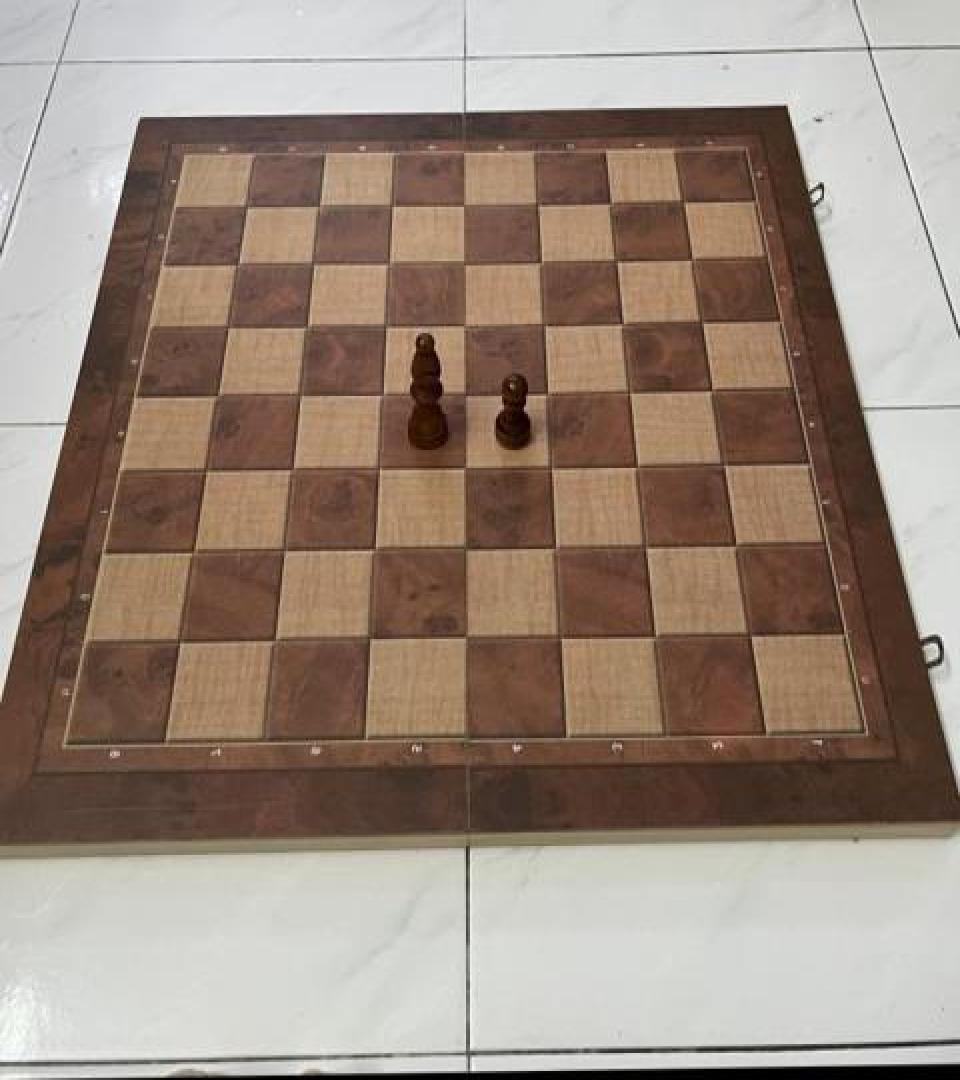xcorner: (591, 182, 625, 221), (528, 371, 562, 410), (611, 371, 645, 410), (226, 187, 260, 225), (299, 186, 333, 224), (371, 184, 405, 222), (444, 184, 478, 222), (518, 184, 552, 222), (665, 181, 699, 219), (217, 246, 251, 284), (293, 244, 327, 282), (369, 243, 403, 281), (445, 242, 479, 280), (521, 241, 555, 279), (597, 240, 631, 278), (674, 238, 708, 276), (208, 307, 242, 345), (287, 306, 321, 344), (366, 305, 400, 343), (445, 305, 479, 343), (524, 304, 558, 342), (604, 303, 638, 341), (684, 302, 718, 340), (198, 376, 232, 414), (280, 375, 314, 413), (363, 374, 397, 412), (445, 372, 479, 410), (694, 370, 728, 408), (187, 450, 221, 488), (273, 449, 307, 487), (359, 448, 393, 486), (445, 447, 479, 485), (532, 447, 566, 485), (619, 446, 653, 484), (706, 444, 740, 482), (175, 531, 209, 569), (265, 530, 299, 568), (355, 530, 389, 568), (446, 529, 480, 567), (537, 528, 571, 566), (628, 528, 662, 566), (719, 526, 753, 564), (162, 621, 196, 659), (256, 620, 290, 658), (351, 620, 385, 658), (446, 619, 480, 657), (542, 618, 576, 656), (637, 618, 671, 656), (733, 616, 767, 654)
